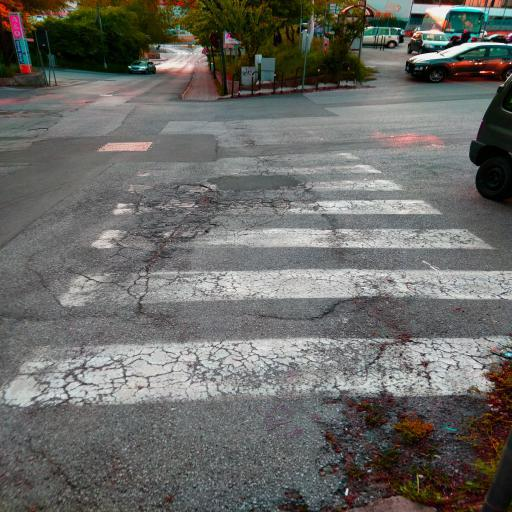crosswalk: (55, 222, 512, 310)
